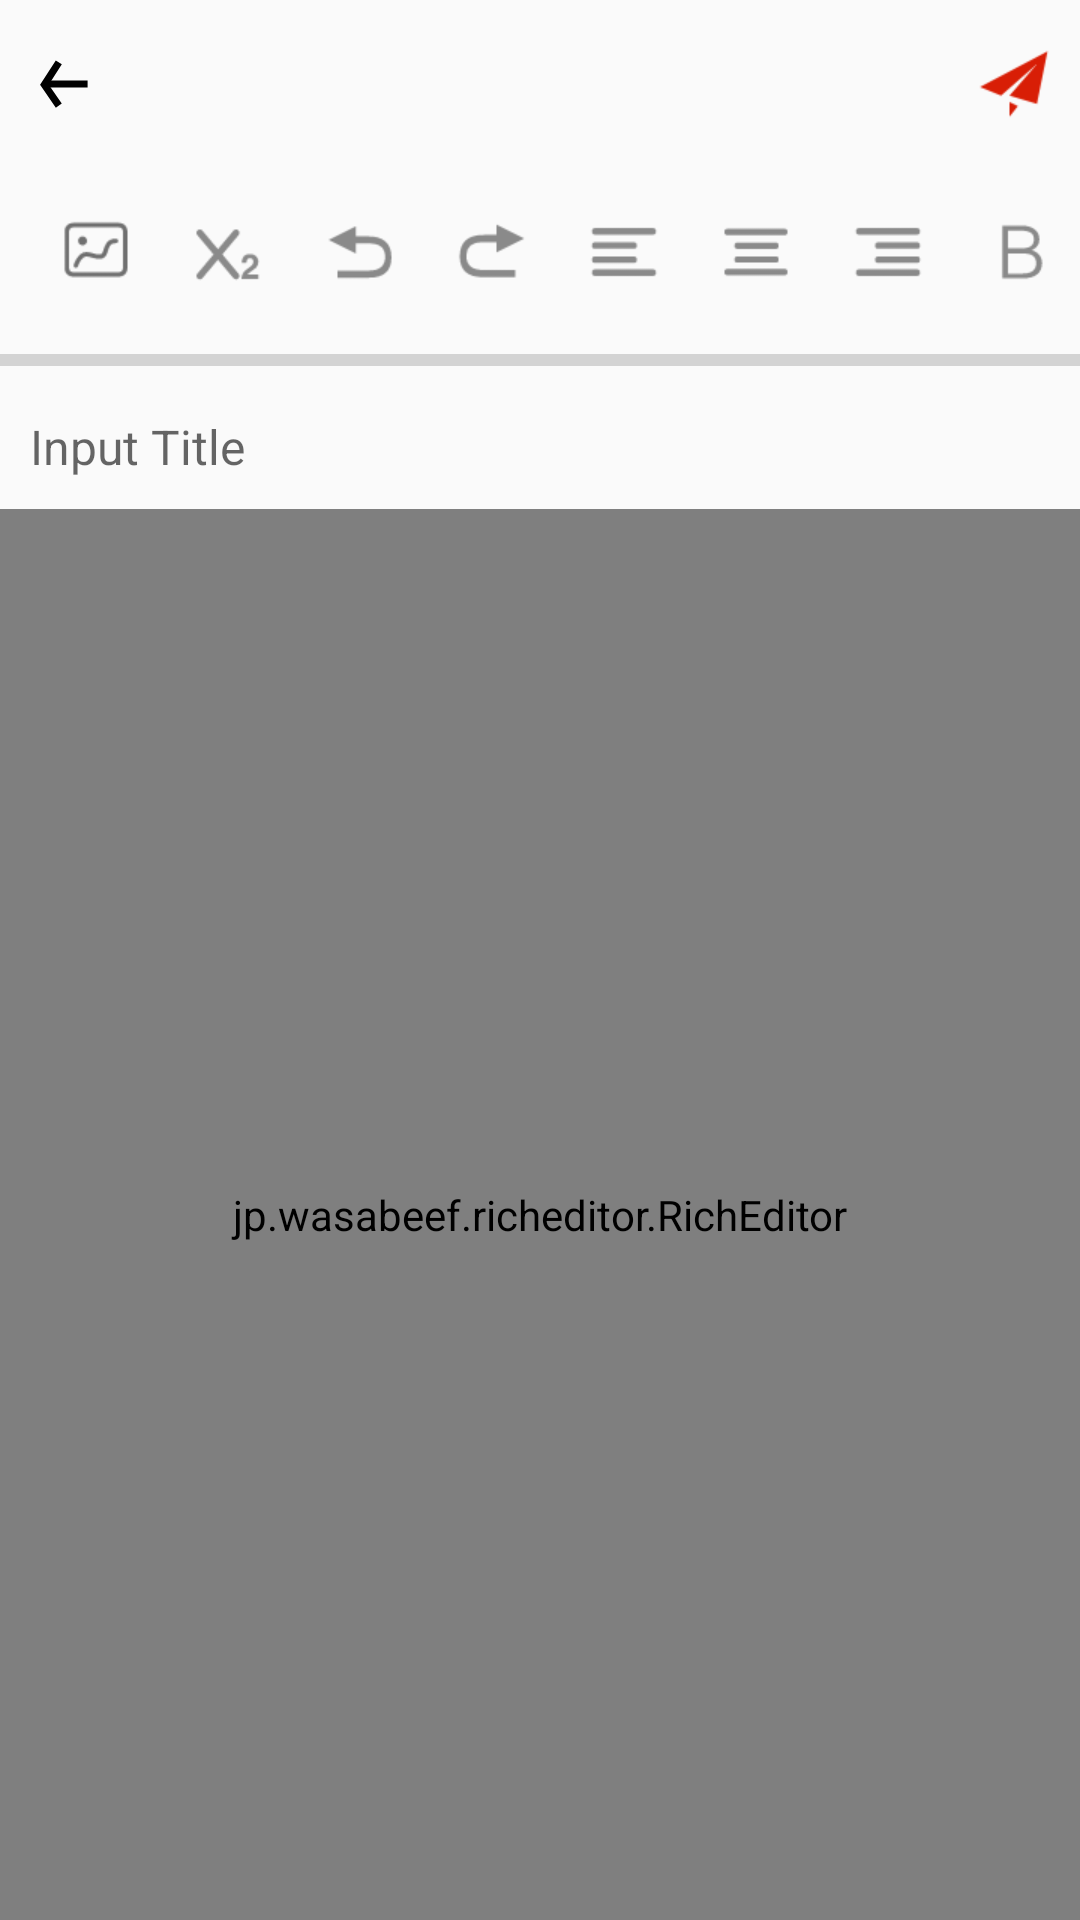

Where to tap for icons on this 1080px×1920px app screen, as [x,y]:
back: [64,84]
edit back: [360,252]
edit center: [756,252]
edit insert: [96,250]
edit left: [624,252]
edit next: [491,251]
edit right: [888,252]
push: [1014,84]
